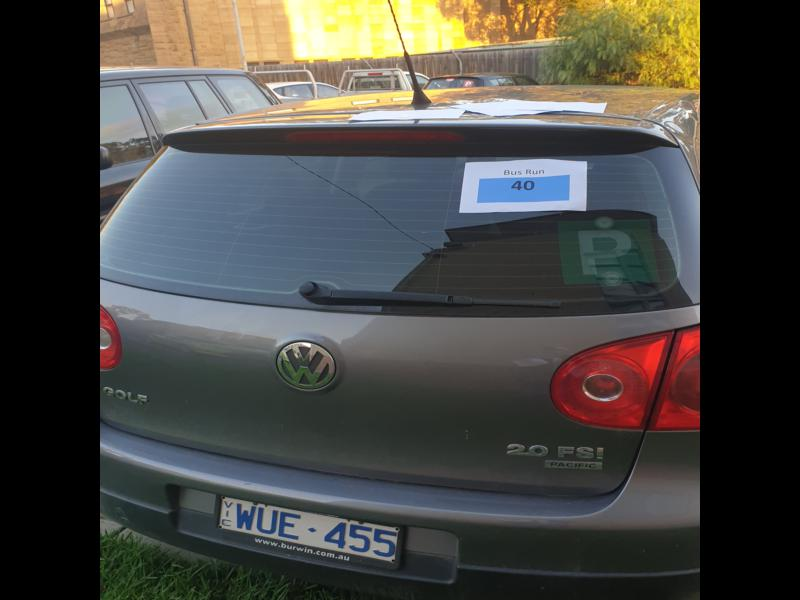BusRun: (478, 174, 573, 202)
PlateNo: (216, 494, 400, 571)
